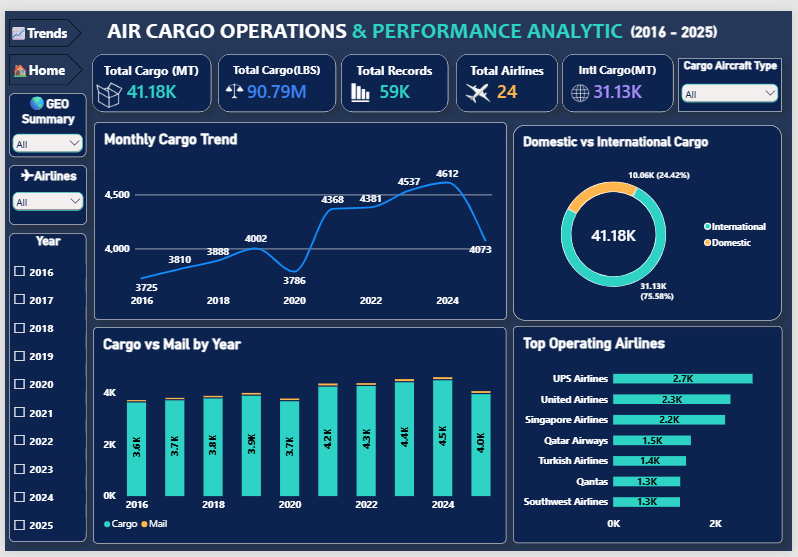

Layout of this report page (visuals, bound fields, positions):
{"tool":"powerbi","page":{"name":"aircargo","canvas":[1312,900],"ordinal":0},"visuals":[{"type":"cardVisual","fields":{"Data":["air_cargo_analytics air_cargo_dataset.Total Cargo (Metric Tons)"]},"box":[145.6,72.2,198.9,96.7],"z":0},{"type":"cardVisual","fields":{"Data":["air_cargo_analytics air_cargo_dataset.Total Cargo (LBS)"]},"box":[354.4,72.2,196.7,96.7],"z":1000},{"type":"cardVisual","fields":{"Data":["air_cargo_analytics air_cargo_dataset.Total Airlines"]},"box":[751.1,72.2,170,96.7],"z":2000},{"type":"cardVisual","fields":{"Data":["air_cargo_analytics air_cargo_dataset.Total Records"]},"box":[560,72.2,178.9,96.7],"z":3000},{"type":"lineChart","title":"Monthly Cargo Trend","fields":{"Category":["Calendar.Year"],"Y":["air_cargo_analytics air_cargo_dataset.Total Cargo (Metric Tons)"]},"box":[147.5,185,688.3,330],"z":4000},{"type":"clusteredBarChart","title":"Top Operating Airlines","fields":{"Category":["air_cargo_analytics air_cargo_dataset.Operating Airline"],"Y":["air_cargo_analytics air_cargo_dataset.Total Cargo (Metric Tons)"]},"box":[846.7,525.6,448.9,362.2],"z":5000},{"type":"slicer","title":"Year","fields":{"Values":["Calendar.Year"]},"box":[6.7,369.3,128.7,515.3],"z":6000},{"type":"slicer","title":" ✈Airlines","fields":{"Values":["air_cargo_analytics air_cargo_dataset.Operating Airline"]},"box":[6.7,256.7,130,100],"z":12000},{"type":"slicer","title":"🌎GEO Summary","fields":{"Values":["air_cargo_analytics air_cargo_dataset.GEO Summary"]},"box":[6.7,136.7,128.9,106.7],"z":13000},{"type":"shape","box":[6.7,72,123.3,52.2],"z":14000},{"type":"shape","box":[6.7,13.3,121.1,46.7],"z":15000},{"type":"columnChart","title":"Cargo vs Mail by Year","fields":{"Category":["Calendar.Year"],"Series":["air_cargo_analytics air_cargo_dataset.Cargo Type Code"],"Y":["air_cargo_analytics air_cargo_dataset.Total Cargo (Metric Tons)"]},"box":[146.7,525.8,689.2,360.8],"z":16000},{"type":"textbox","box":[148,0,1060,92],"z":17000},{"type":"cardVisual","title":"International Cargo (MT)","fields":{"Data":["air_cargo_analytics air_cargo_dataset.International Cargo Volume (MT)"]},"box":[927.8,72.2,185.6,96.7],"z":18000},{"type":"slicer","title":"Cargo Aircraft Type","fields":{"Values":["air_cargo_analytics air_cargo_dataset.Cargo Aircraft Type"]},"box":[1122.2,78.9,173.3,90],"z":19000},{"type":"image","box":[749.2,87.5,76,98],"z":20000},{"type":"image","box":[569.2,109.2,46.2,55.4],"z":21000},{"type":"image","box":[937.3,112.7,44.5,48.2],"z":22000},{"type":"image","box":[150,110,48.2,59.1],"z":23000},{"type":"image","box":[360.9,110,40.9,50.9],"z":24000},{"type":"donutChart","title":"Domestic vs International Cargo","fields":{"Category":["air_cargo_analytics air_cargo_dataset.GEO Summary"],"Y":["air_cargo_analytics air_cargo_dataset.Total Cargo (Metric Tons)"]},"box":[846,190,448,326],"z":24001}]}

Visuals, with their boxes in screenshot pixels (x1, y1, x2, y2), scaled from the page's 1312x900 canvas onto the 798x557 screenshot:
cardVisual - air_cargo_analytics air_cargo_dataset.Total Cargo (Metric Tons): crop(89, 45, 210, 105)
cardVisual - air_cargo_analytics air_cargo_dataset.Total Cargo (LBS): crop(216, 45, 335, 105)
cardVisual - air_cargo_analytics air_cargo_dataset.Total Airlines: crop(457, 45, 560, 105)
cardVisual - air_cargo_analytics air_cargo_dataset.Total Records: crop(341, 45, 449, 105)
"Monthly Cargo Trend" lineChart: crop(90, 114, 508, 319)
"Top Operating Airlines" clusteredBarChart: crop(515, 325, 788, 549)
"Year" slicer: crop(4, 229, 82, 547)
" ✈Airlines" slicer: crop(4, 159, 83, 221)
"🌎GEO Summary" slicer: crop(4, 85, 82, 151)
shape: crop(4, 45, 79, 77)
shape: crop(4, 8, 78, 37)
"Cargo vs Mail by Year" columnChart: crop(89, 325, 508, 549)
textbox: crop(90, 0, 735, 57)
"International Cargo (MT)" cardVisual: crop(564, 45, 677, 105)
"Cargo Aircraft Type" slicer: crop(683, 49, 788, 105)
image: crop(456, 54, 502, 115)
image: crop(346, 68, 374, 102)
image: crop(570, 70, 597, 100)
image: crop(91, 68, 121, 105)
image: crop(220, 68, 244, 100)
"Domestic vs International Cargo" donutChart: crop(515, 118, 787, 319)
